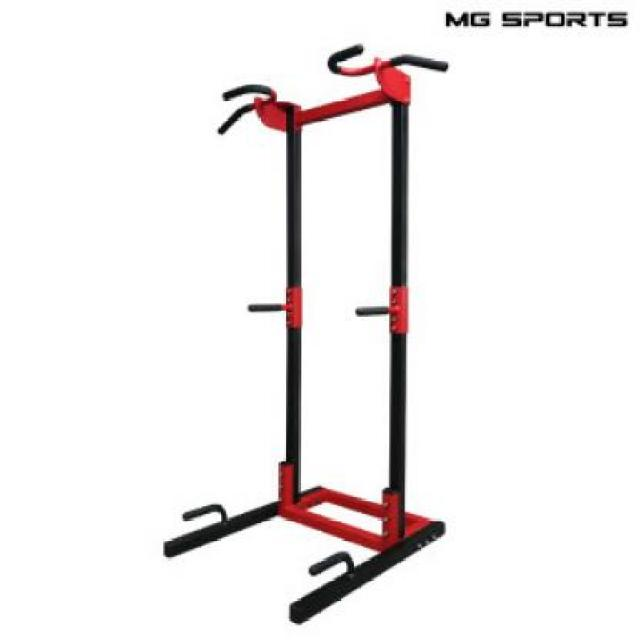chinning dipping: (163, 43, 449, 625)
